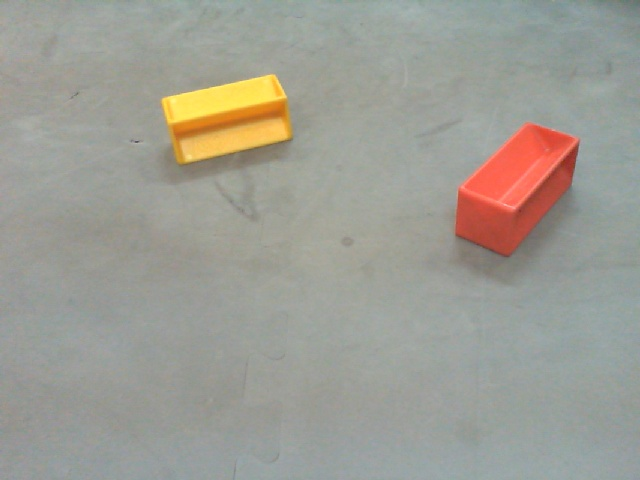RedSample: (452, 120, 583, 258)
YellowSample: (160, 75, 293, 165)
